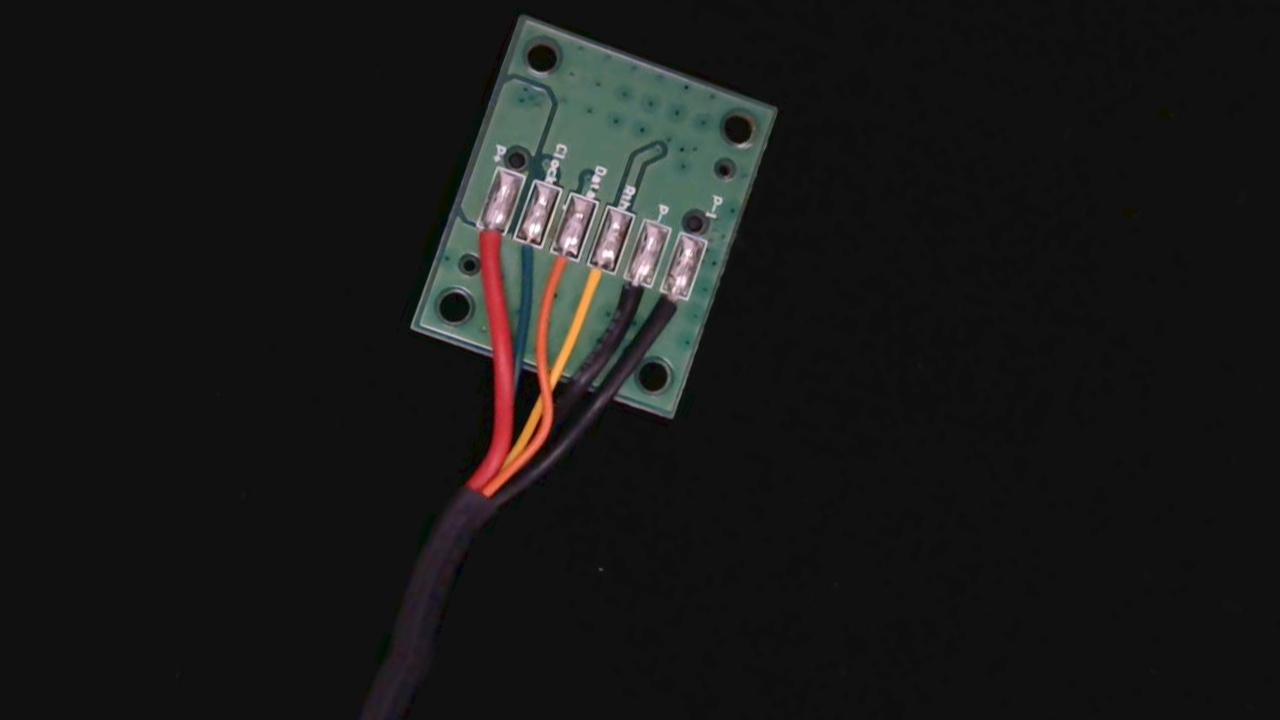Black: (601, 263, 657, 334)
Black1: (640, 276, 694, 350)
Green: (498, 221, 550, 291)
Orange: (529, 235, 584, 313)
Red: (454, 208, 510, 286)
Yellow: (568, 248, 621, 319)
